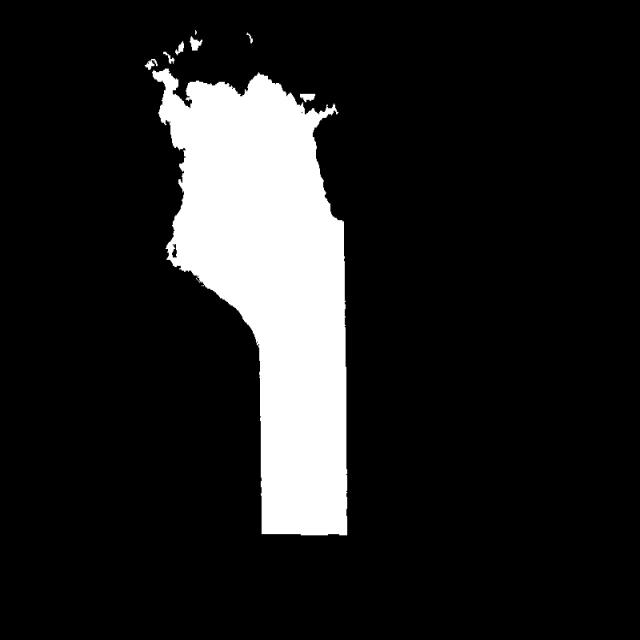fire: (137, 24, 388, 549)
